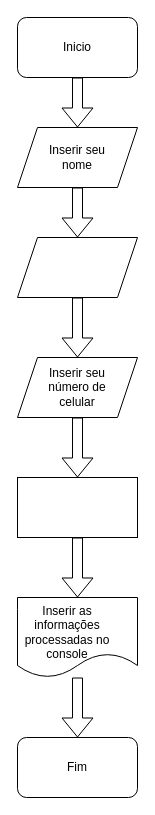
Image size: 155x815. Some labels were removed from this diagram. Each missing label, with the centre of its shape:
"Inserir seu endereço" goes at [77,267].
"Organizar as informações do usuário" goes at [77,507].
